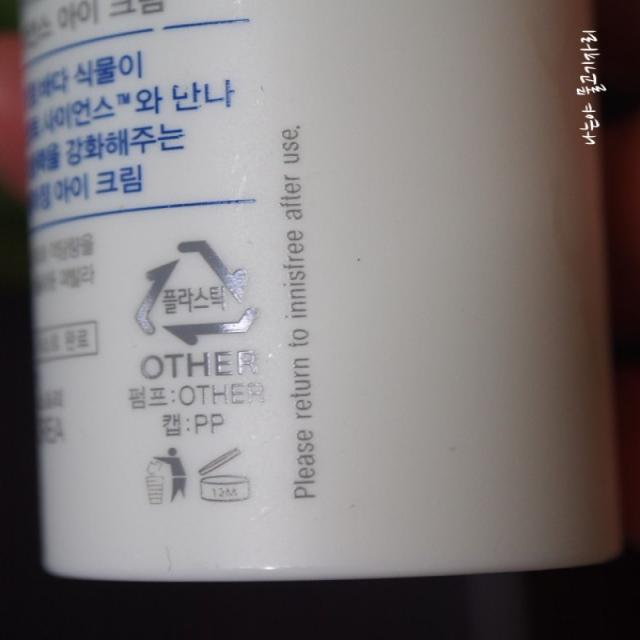Plastic: (125, 233, 264, 348)
